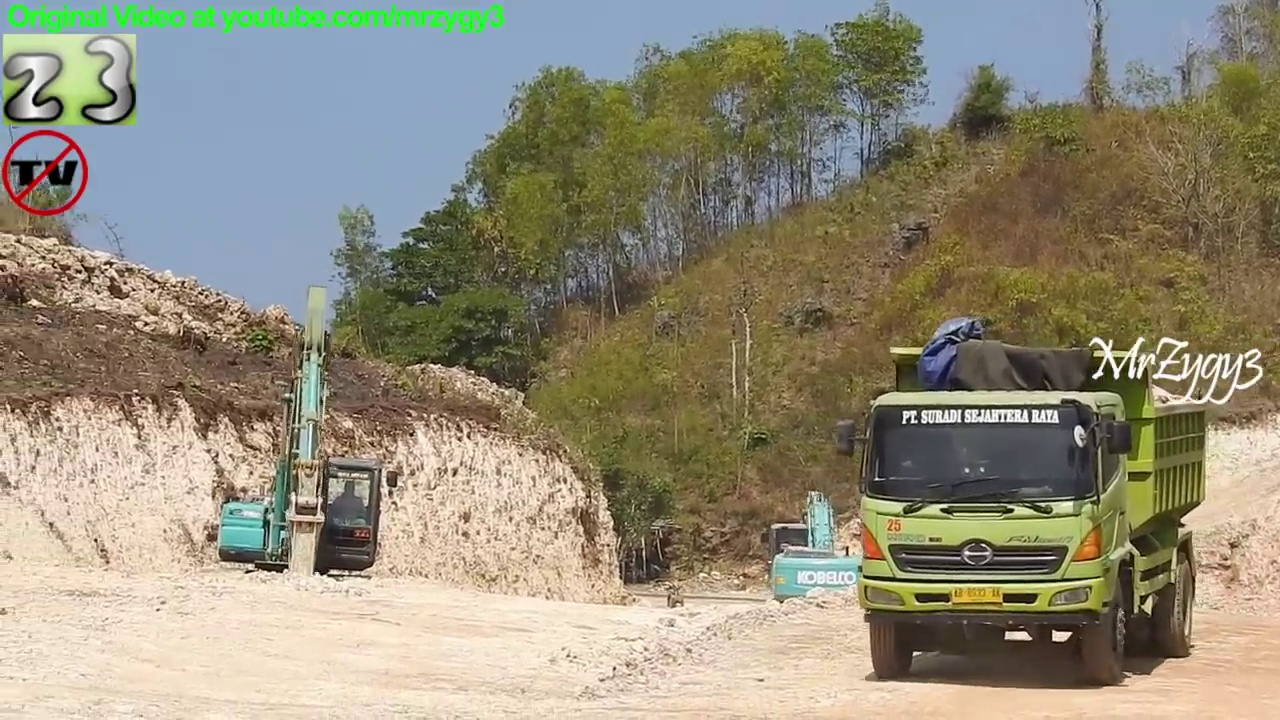excavator: (205, 281, 407, 619), (760, 482, 888, 633)
truck: (829, 338, 1216, 692)
